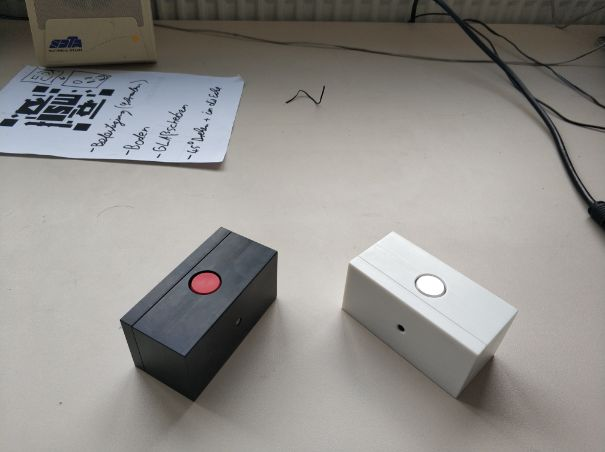black+black+red: (117, 225, 280, 405)
white+white+silver: (340, 229, 520, 401)
